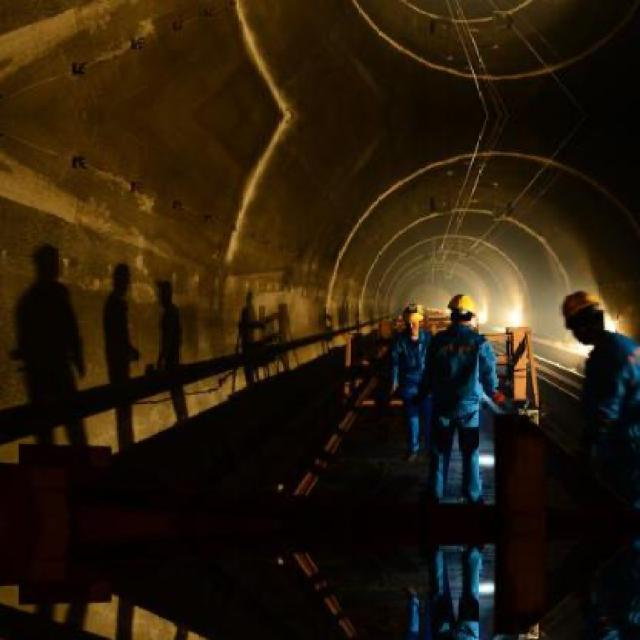con casco: (366, 286, 486, 360), (538, 276, 640, 346)
